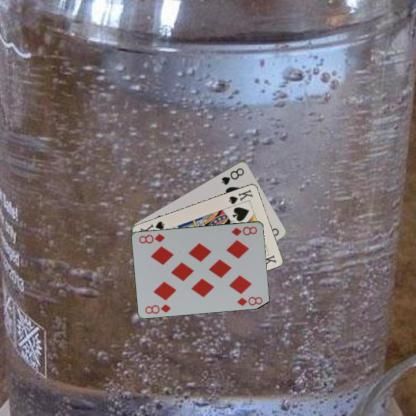8d: (229, 223, 258, 237), (143, 301, 172, 315)
8s: (219, 165, 246, 186)
Ks: (226, 187, 254, 205)
